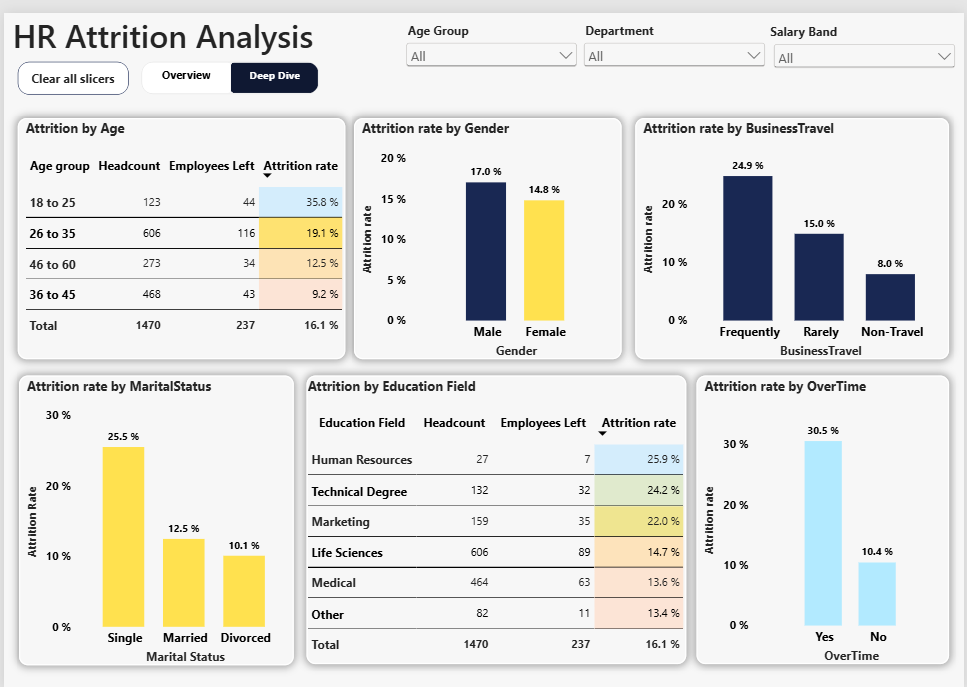

This screenshot's page, from the dashboard's own definition file:
{"tool":"powerbi","page":{"name":"Overview","canvas":[1280,900],"ordinal":0},"visuals":[{"type":"textbox","box":[10,0,410,58],"z":0},{"type":"slicer","fields":{"Values":["employees_data.Salary band"]},"box":[1022.1,34.7,251.2,38.8],"z":0,"group":"g3"},{"type":"slicer","fields":{"Values":["employees_data.Department"]},"box":[770.2,37.1,251.2,38.8],"z":0,"group":"g2"},{"type":"slicer","fields":{"Values":["employees_data.Age group"]},"box":[533,37.6,237.1,38.2],"z":0,"group":"g1"},{"type":"textbox","box":[1022.2,13,95.4,24.4],"z":1000,"group":"g3"},{"type":"group","id":"g1","title":"Group 1","box":[533,14.4,237.1,61.4],"z":1000},{"type":"textbox","box":[540.2,14.4,111.3,24.6],"z":1000,"group":"g1"},{"type":"textbox","box":[776.3,14.4,95.4,24.4],"z":1000,"group":"g2"},{"type":"group","id":"g2","title":"Group 2","box":[770.2,14.4,251.4,61.4],"z":2000},{"type":"group","id":"g3","title":"Group 2","box":[1022.1,13,251.2,60.6],"z":3000},{"type":"actionButton","box":[18.8,65,148,44],"z":4000},{"type":"pageNavigator","box":[183.1,64.6,236.7,43.3],"z":5000},{"type":"cardVisual","title":"ATTRITION RATE","fields":{"Data":["employees_data.Attrition rate"]},"box":[15,136.7,213.3,128.3],"z":6000},{"type":"cardVisual","title":"EMPLOYEES LEFT","fields":{"Data":["employees_data.Employees Left"]},"box":[16.7,288.3,211.7,130],"z":7000},{"type":"cardVisual","title":"TOTAL HEADCOUNT","fields":{"Data":["employees_data.headcount"]},"box":[18.3,441.7,210,130],"z":8000},{"type":"cardVisual","title":"AVERAGE INCOME","fields":{"Data":["employees_data.Avg monthly income"]},"box":[18.3,593.3,210,130],"z":9000},{"type":"cardVisual","title":"AVG TENURE OF LEAVERS","fields":{"Data":["employees_data.Avg Tenure of leavers"]},"box":[18.3,746.7,210,130],"z":10000},{"type":"clusteredBarChart","title":"Attrition Rate by Department","fields":{"Category":["employees_data.Department"],"Y":["employees_data.Attrition rate"]},"box":[758.3,136.7,498.3,380],"z":11000},{"type":"decompositionTreeVisual","title":"Attrition Decomposition","fields":{"Analyze":["employees_data.Employees Left"],"ExplainBy":["employees_data.Department","employees_data.JobRole","employees_data.Salary band"]},"box":[663.3,526.7,598.3,350],"z":12000},{"type":"pivotTable","title":"Attrition By Job Roles","fields":{"Rows":["employees_data.JobRole"],"Values":["employees_data.headcount","employees_data.Employees Left","employees_data.Attrition rate"]},"box":[251.2,136.2,488.8,380],"z":13000},{"type":"pivotTable","title":"Attrition by Salary Band","fields":{"Rows":["employees_data.Salary band"],"Values":["employees_data.headcount","employees_data.Employees Left","employees_data.Attrition rate"]},"box":[252,654,388,223],"z":14000},{"type":"treemap","title":"Overall Attrition ","fields":{"Values":["employees_data.Employees Left","employees_data.Employees Stayed"]},"box":[252,527,392,114],"z":15001}]}

Visuals, with their boxes in screenshot pixels (x1, y1, x2, y2), scaled from the page's 1280x900 canvas onto the 967x687 screenshot:
textbox: bbox=[8, 0, 317, 44]
slicer - employees_data.Salary band: bbox=[772, 26, 962, 56]
slicer - employees_data.Department: bbox=[582, 28, 772, 58]
slicer - employees_data.Age group: bbox=[403, 29, 582, 58]
textbox: bbox=[772, 10, 844, 29]
"Group 1" group: bbox=[403, 11, 582, 58]
textbox: bbox=[408, 11, 492, 30]
textbox: bbox=[586, 11, 659, 30]
"Group 2" group: bbox=[582, 11, 772, 58]
"Group 2" group: bbox=[772, 10, 962, 56]
actionButton: bbox=[14, 50, 126, 83]
pageNavigator: bbox=[138, 49, 317, 82]
"ATTRITION RATE" cardVisual: bbox=[11, 104, 172, 202]
"EMPLOYEES LEFT" cardVisual: bbox=[13, 220, 173, 319]
"TOTAL HEADCOUNT" cardVisual: bbox=[14, 337, 172, 436]
"AVERAGE INCOME" cardVisual: bbox=[14, 453, 172, 552]
"AVG TENURE OF LEAVERS" cardVisual: bbox=[14, 570, 172, 669]
"Attrition Rate by Department" clusteredBarChart: bbox=[573, 104, 949, 394]
"Attrition Decomposition" decompositionTreeVisual: bbox=[501, 402, 953, 669]
"Attrition By Job Roles" pivotTable: bbox=[190, 104, 559, 394]
"Attrition by Salary Band" pivotTable: bbox=[190, 499, 484, 669]
"Overall Attrition " treemap: bbox=[190, 402, 487, 489]
